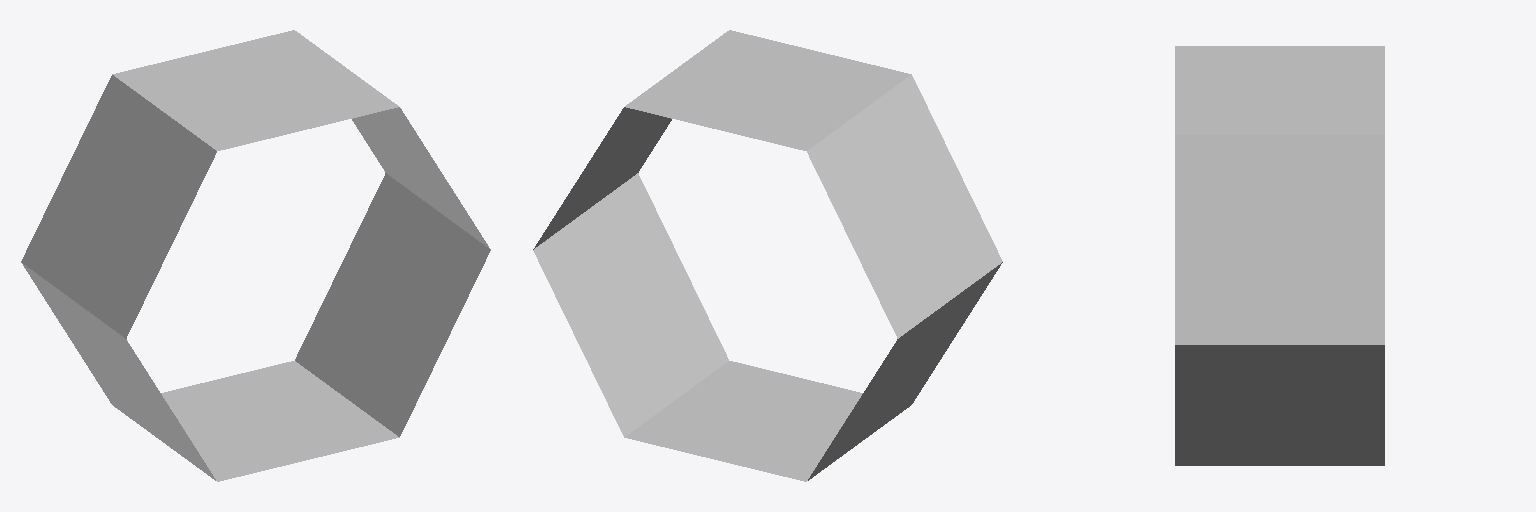
File: HexagonalPrismA.obj
3 views of the same model, side by side, from view 1: azimuth 30°, elevation 25°; view 2: azimuth 150°, elevation 25°; view 3: azimuth 270°, elevation 25° (orthographic).
Bounding box in the file's own units: 2 × 1.73 × 1.